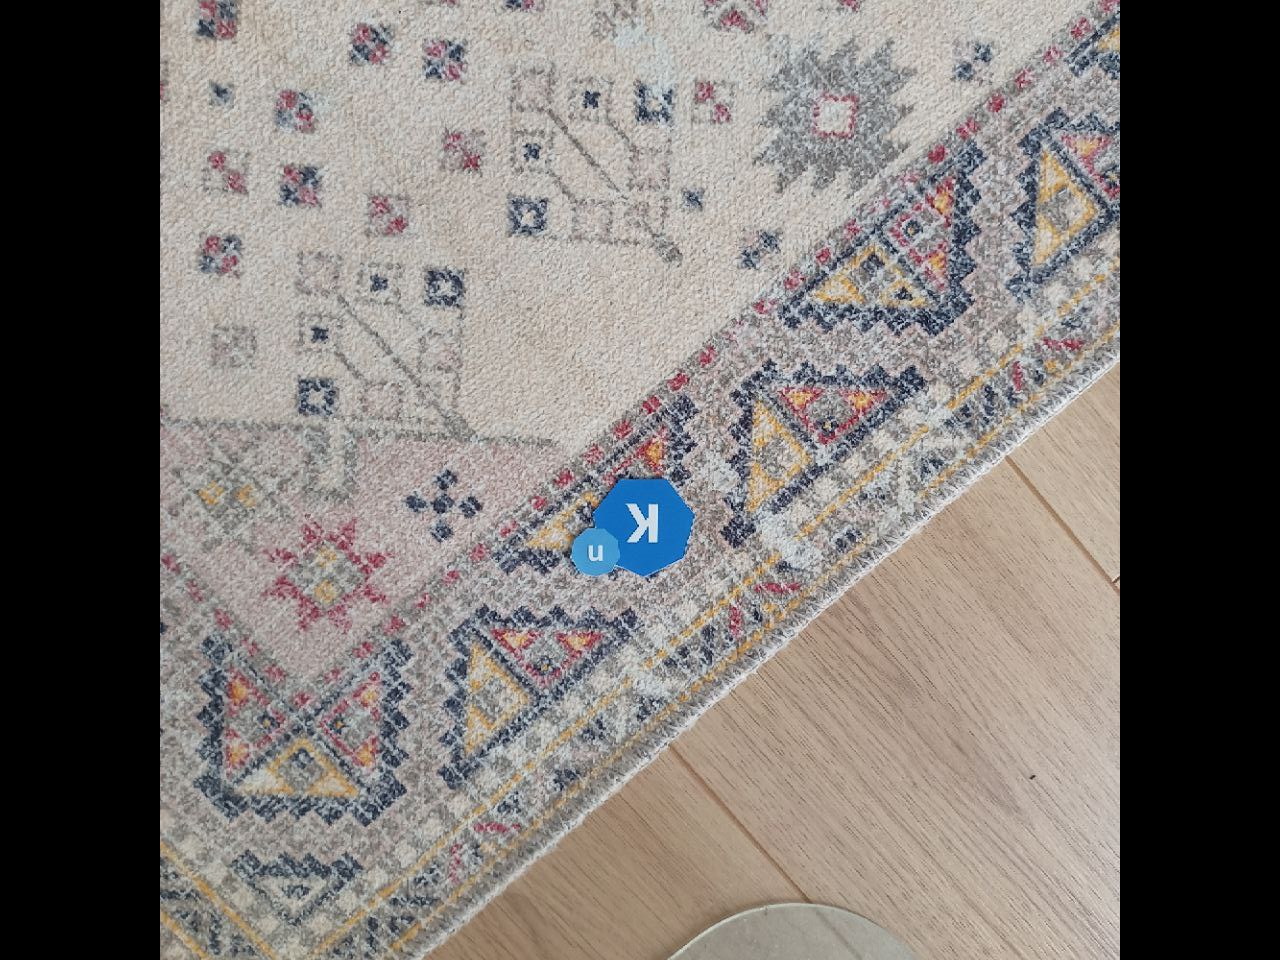knative: (568, 476, 698, 577)
